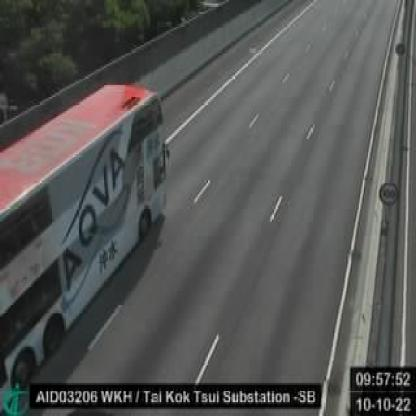Bus: (0, 80, 167, 402)
